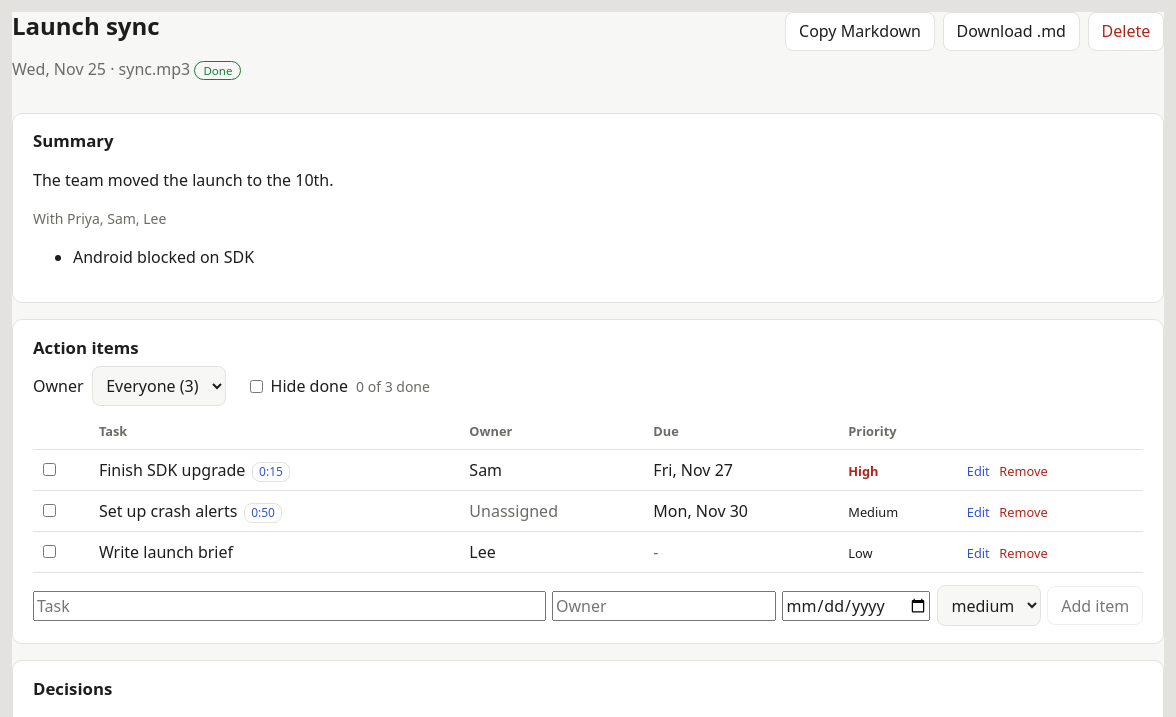
it: MeetingView › action items › checks an item off instantly and keeps it once the server agrees
Click the checkbox named "Done: Finish SDK upgrade".
click(50, 470)  # box [43, 464, 56, 476]
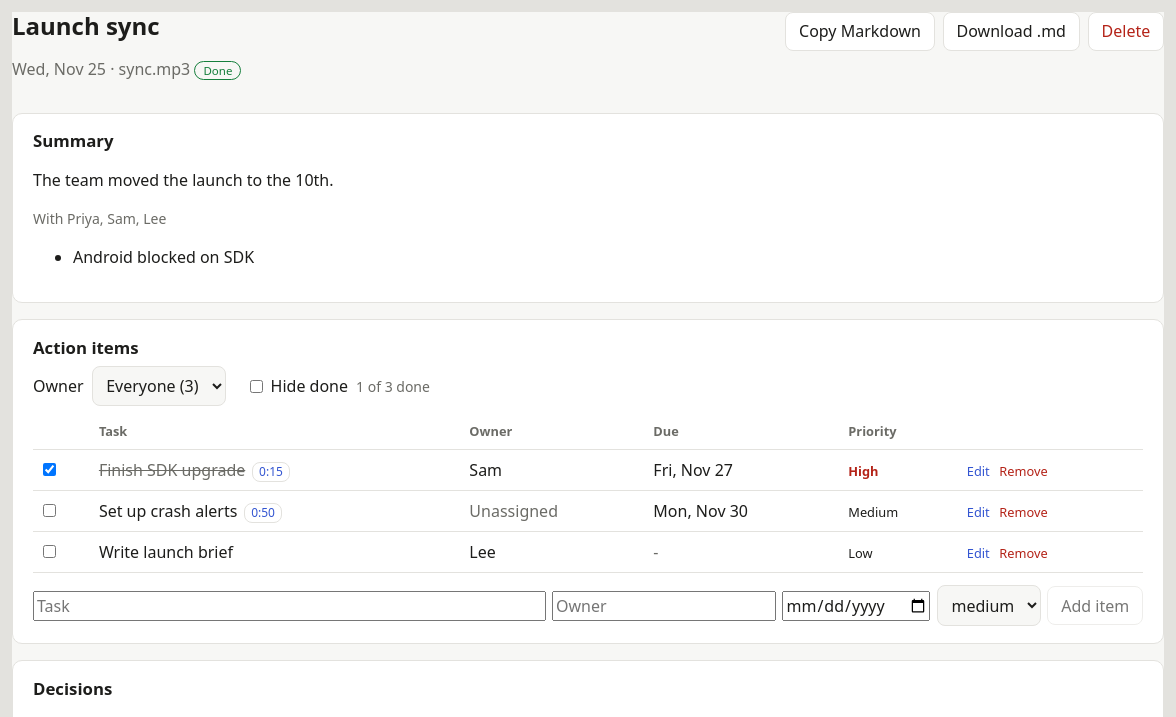
Now the checkbox named "Done: Finish SDK upgrade" is checked, box [43, 464, 56, 476]
Now the text "1 of 3 done" is shown, box [356, 376, 430, 397]
